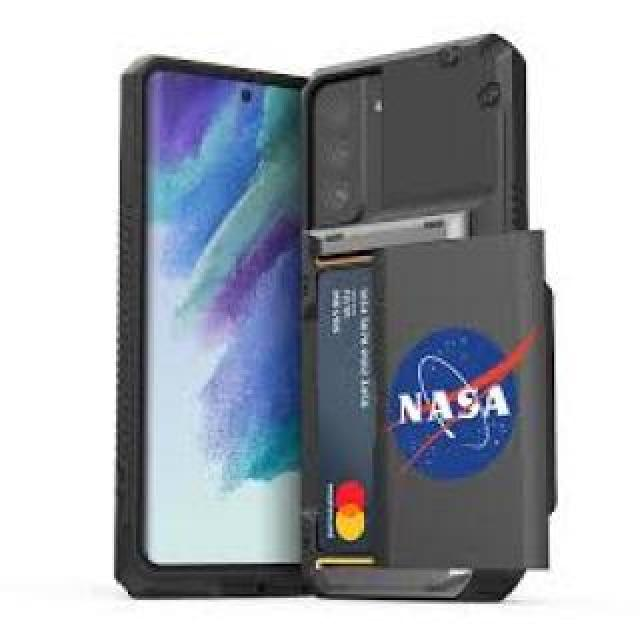smart phone: (322, 21, 550, 632)
